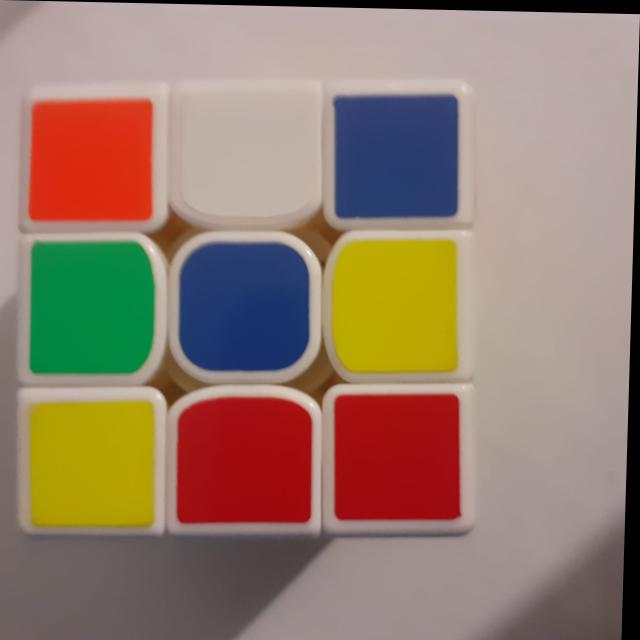Blue: (174, 232, 320, 379), (328, 87, 469, 225)
Green: (21, 238, 170, 384)
Orange: (25, 87, 166, 232)
Red: (174, 388, 323, 535), (328, 388, 471, 534)
White: (171, 87, 326, 224)
Yellow: (18, 390, 169, 532), (327, 233, 471, 375)
